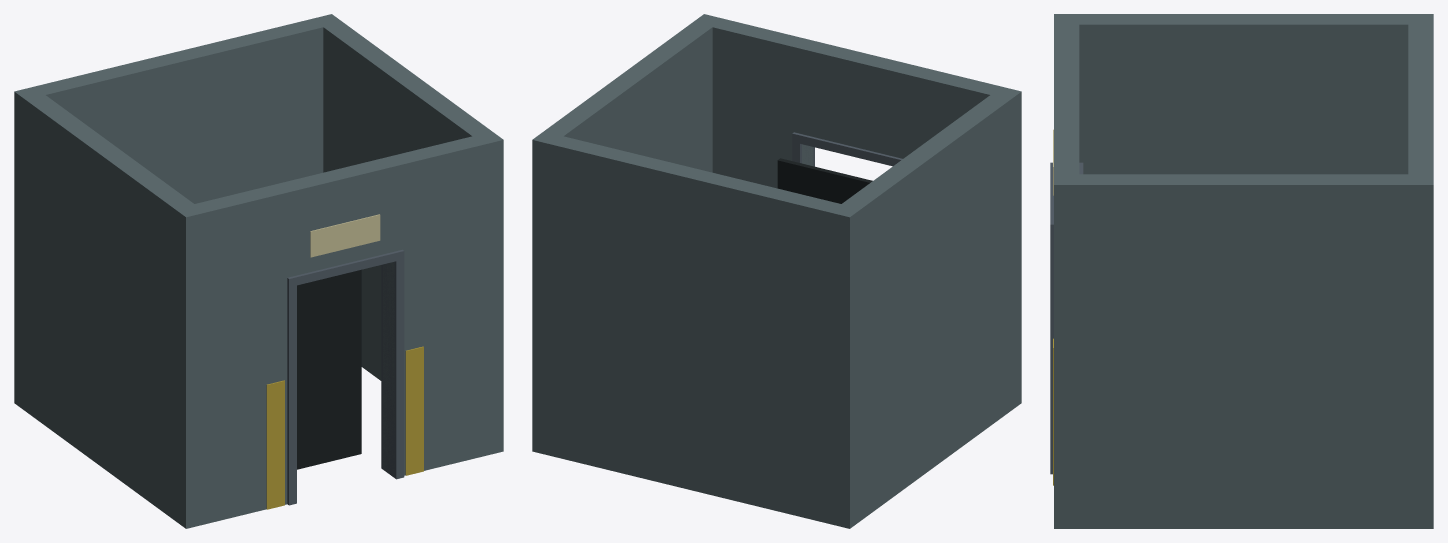
Rendered from stair_core.glb.
The picture shows the model from 3 angles, left to right: view 1: azimuth 30°, elevation 25°; view 2: azimuth 150°, elevation 25°; view 3: azimuth 270°, elevation 25°; orthographic projection. The views are drawn at different scales.
Parts seen in each view (by area): view 1: stair_core; view 2: stair_core; view 3: stair_core.
Boxes of the visible parts, x1=… form: stair_core: x1=14, y1=14, x2=503, y2=528; stair_core: x1=532, y1=14, x2=1021, y2=528; stair_core: x1=1050, y1=14, x2=1433, y2=528.
Size of the model in its own units: 3.2 by 3 by 3.03.
